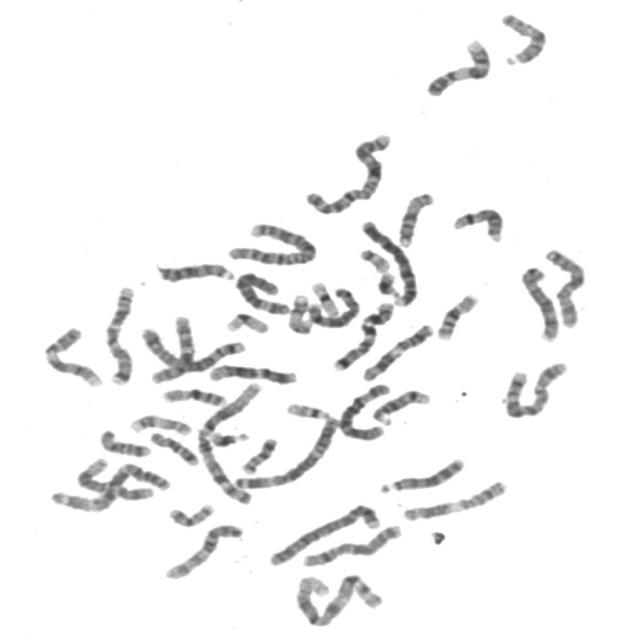A1: (192, 378, 264, 506), (290, 569, 387, 629)
A2: (302, 128, 394, 216), (223, 218, 320, 267)
A3: (233, 412, 343, 490), (46, 457, 172, 514)
B4: (264, 499, 384, 568), (357, 215, 423, 308)
B5: (137, 323, 247, 374), (500, 357, 572, 420)
C10: (160, 519, 247, 583), (147, 310, 198, 386)
C11: (398, 475, 511, 523), (359, 319, 438, 383)
C12: (74, 453, 158, 502), (204, 359, 302, 386)
C6: (334, 379, 395, 443), (231, 267, 293, 316)
C7: (329, 298, 398, 372), (101, 280, 139, 386)
C8: (516, 262, 564, 344), (303, 284, 363, 329)
C9: (422, 34, 495, 98), (39, 322, 107, 388)
D13: (374, 453, 468, 495), (152, 257, 238, 285)
D14: (368, 385, 433, 426), (448, 203, 508, 244)
D15: (496, 8, 551, 68), (393, 187, 438, 249)
E16: (432, 288, 482, 342), (158, 383, 230, 408)
E17: (125, 410, 195, 438), (284, 290, 316, 336)
E18: (146, 427, 200, 467), (96, 424, 154, 458)
F19: (307, 277, 342, 318), (222, 308, 272, 335)
F20: (238, 434, 280, 476), (164, 498, 218, 528)
G21: (204, 426, 253, 449), (373, 267, 402, 299)
G22: (283, 398, 334, 422), (355, 244, 393, 274)
X: (297, 520, 406, 568), (540, 244, 590, 330)
